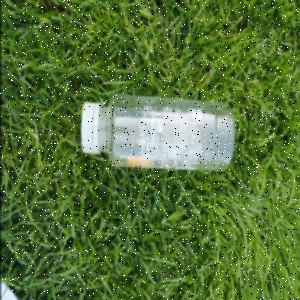Plastic-bottle: (80, 94, 237, 176)
